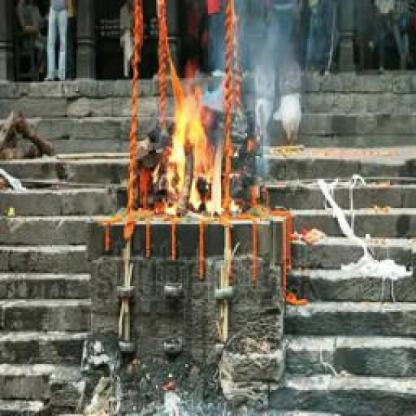fire: (166, 80, 226, 218)
